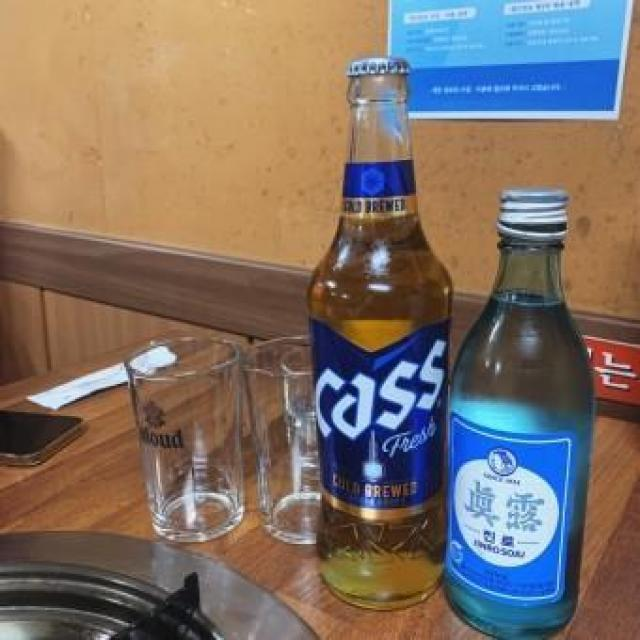beer-bottle: (297, 21, 462, 622)
soju-bottle: (439, 181, 611, 638)
